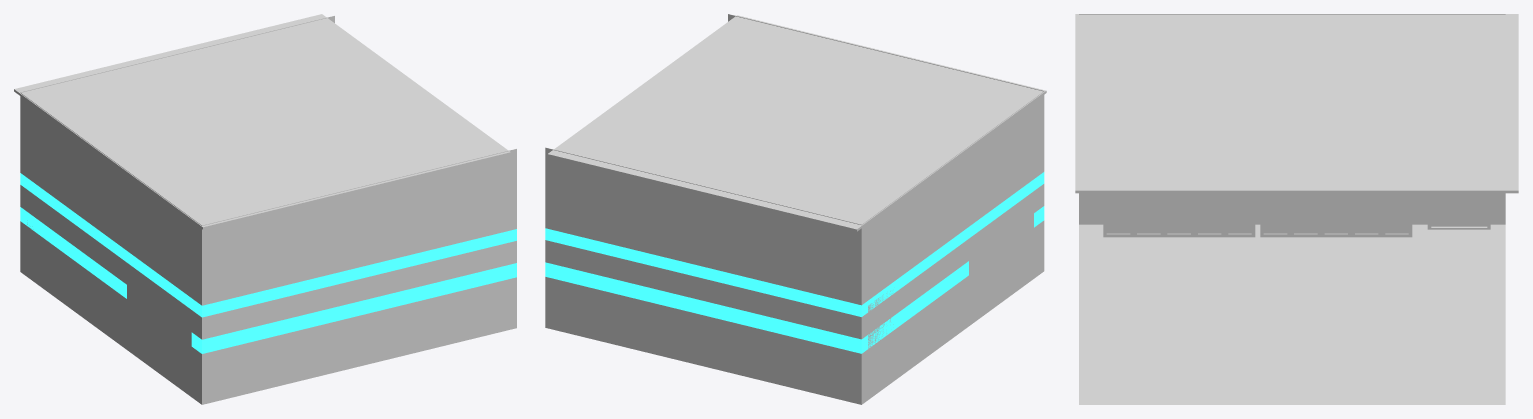
Rendered from scene_lofvirus.fbx.
3 renders of one model, left to right at view 1: azimuth 30°, elevation 25°; view 2: azimuth 150°, elevation 25°; view 3: azimuth 270°, elevation 25°, orthographic. The views are drawn at different scales.
Visible parts, largest first — view 1: Cube, Cube.002, casier; view 2: Cube, Cube.002, casier, Cube.001; view 3: Cube.002, Cube, casier, casier.001, Cube.001.
Boxes of the visible parts, x1,y1,x2,y2 form: Cube: (20, 16, 516, 404); Cube.002: (14, 14, 510, 229); casier: (127, 270, 191, 396); Cube: (545, 14, 1044, 404); Cube.002: (547, 15, 1046, 231); casier: (969, 198, 1033, 325); Cube.001: (868, 291, 893, 399); Cube.002: (1075, 14, 1518, 193); Cube: (1079, 14, 1505, 404); casier: (1103, 193, 1255, 237); casier.001: (1260, 193, 1412, 237); Cube.001: (1427, 193, 1490, 229).
Bounding box in the file's own units: 2816 × 2919 × 1530.
